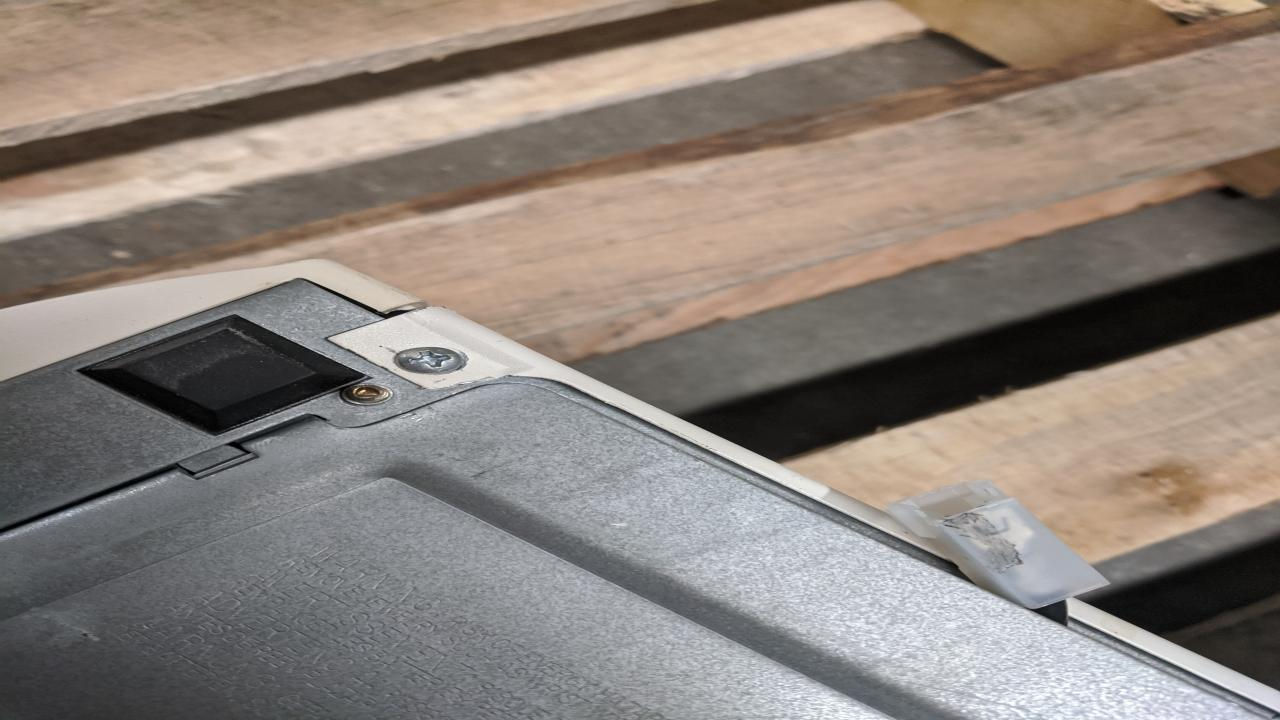CRS: (388, 347, 468, 373)
